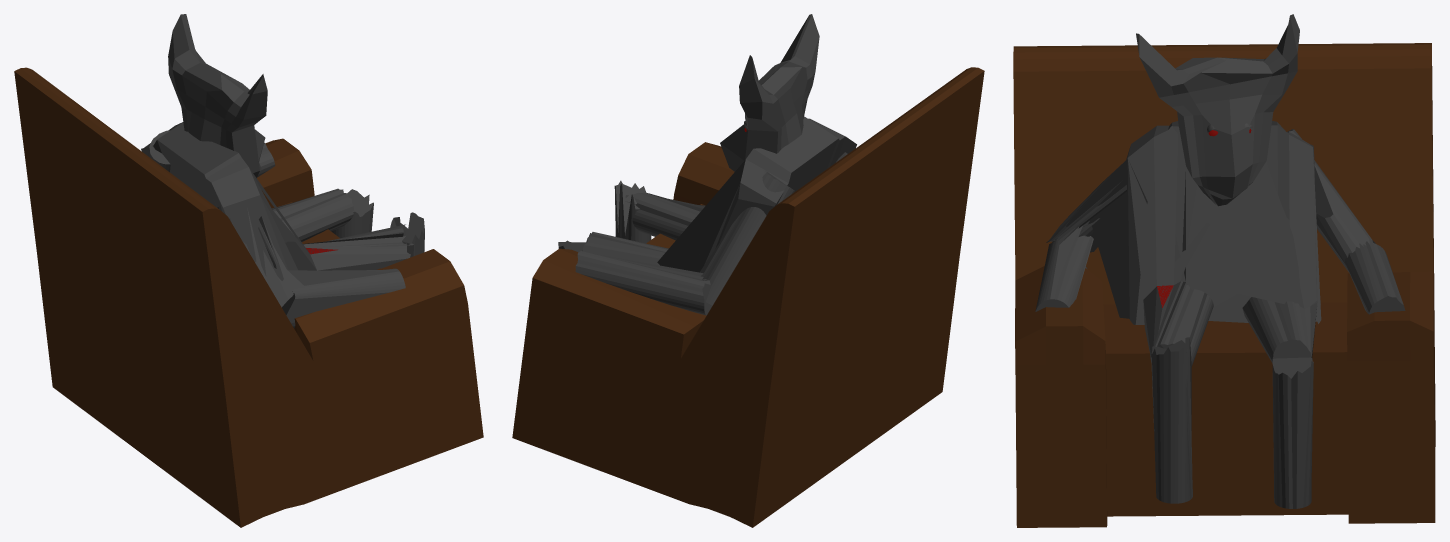
The model's file is UNITYYNharka.fbx.
3 renders of one model, left to right at view 1: azimuth 30°, elevation 25°; view 2: azimuth 150°, elevation 25°; view 3: azimuth 270°, elevation 25°, orthographic. The views are drawn at different scales.
Parts seen in each view (by area): view 1: silmaV; view 2: silmaV; view 3: silmaV.
Part boxes in pixels (x1,y1,x2,y2): silmaV: [14, 14, 483, 527]; silmaV: [512, 14, 984, 527]; silmaV: [1013, 14, 1435, 527].
Bounding box in the file's own units: 402 × 531 × 449.
